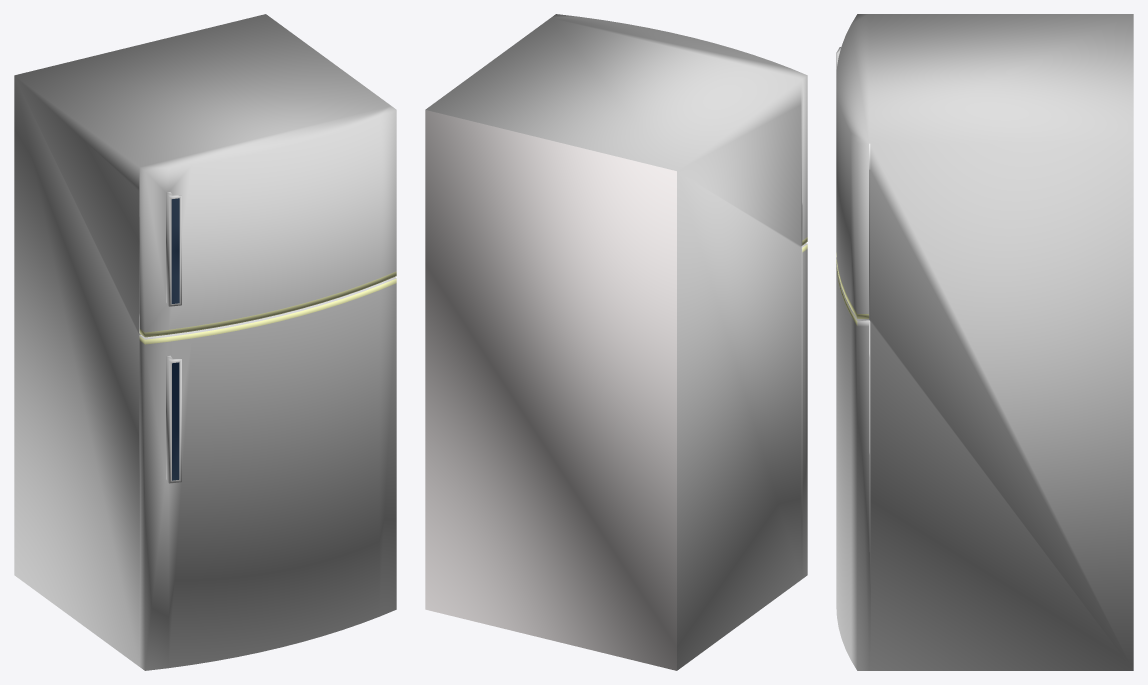
3 views of the same model, side by side, from view 1: azimuth 30°, elevation 25°; view 2: azimuth 150°, elevation 25°; view 3: azimuth 270°, elevation 25° (orthographic). The views are drawn at different scales.
Visible parts, largest first — view 1: SketchUp (×5); view 2: SketchUp (×2); view 3: SketchUp.
Part boxes in pixels (x1,y1,x2,y2): SketchUp (×5): [14, 14, 396, 670]; SketchUp (×2): [425, 14, 807, 670]; SketchUp: [836, 14, 1133, 670].
Size of the model in its own units: 2758 by 2673 by 5231.
Materials: 5 (1 with a texture image).
